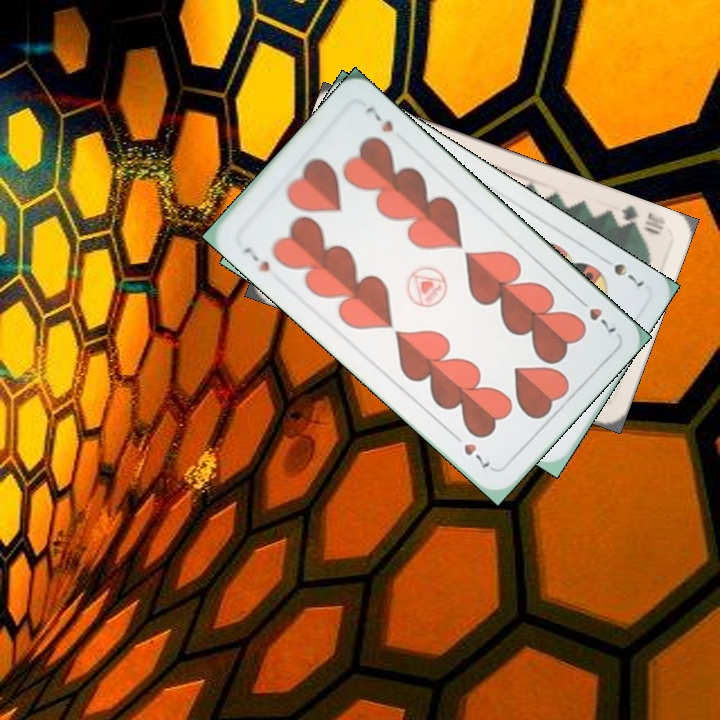G10: (609, 201, 668, 238)
H7: (572, 292, 619, 338), (239, 242, 273, 275)
S7: (596, 252, 646, 290)
